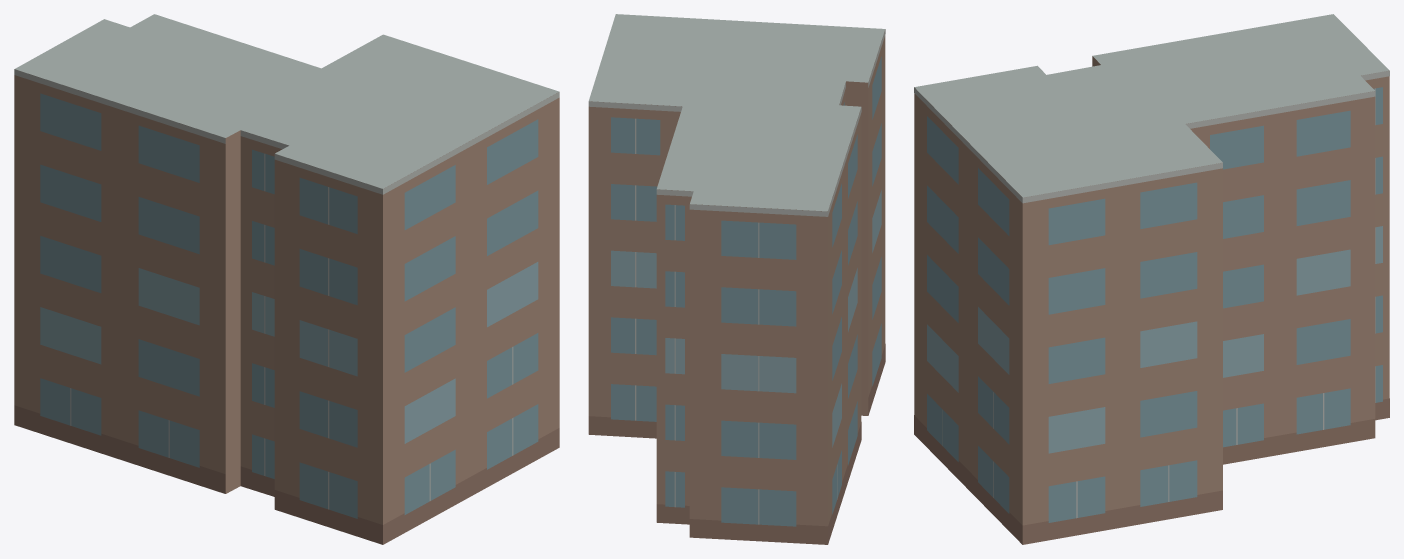
The model's file is survey-upis-33009121.glb.
3 renders of one model, left to right at view 1: azimuth 30°, elevation 25°; view 2: azimuth 150°, elevation 25°; view 3: azimuth 270°, elevation 25°, orthographic. The views are drawn at different scales.
Visible parts, largest first — view 1: survey-upis-33009121.tmp; view 2: survey-upis-33009121.tmp; view 3: survey-upis-33009121.tmp.
Part boxes in pixels (box(x1,y1,x2,y2)): survey-upis-33009121.tmp: box(14, 14, 559, 544); survey-upis-33009121.tmp: box(588, 14, 885, 544); survey-upis-33009121.tmp: box(914, 14, 1389, 544).
Bounding box in the file's own units: 16.77 × 14.78 × 18.36.
